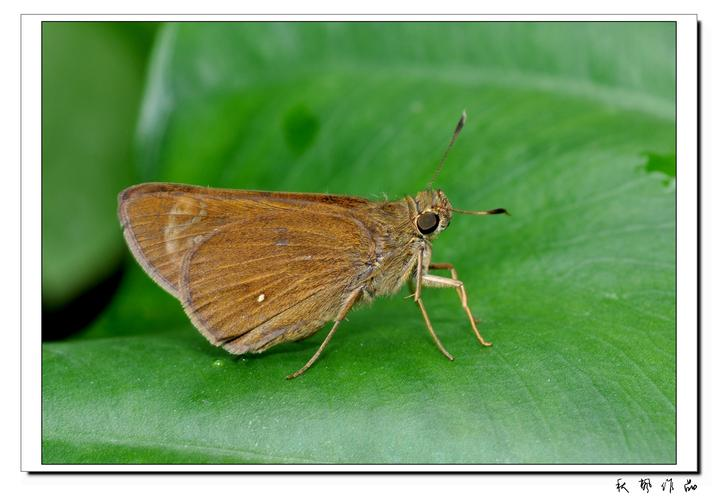Hesperiidae: (114, 110, 513, 380)
